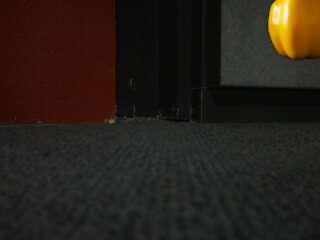Capsicum: (266, 1, 320, 63)
